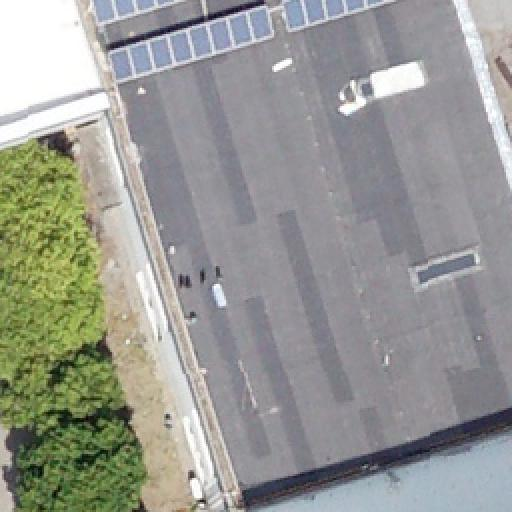solar-panel: (107, 2, 277, 86), (279, 0, 393, 32), (89, 0, 191, 28)
